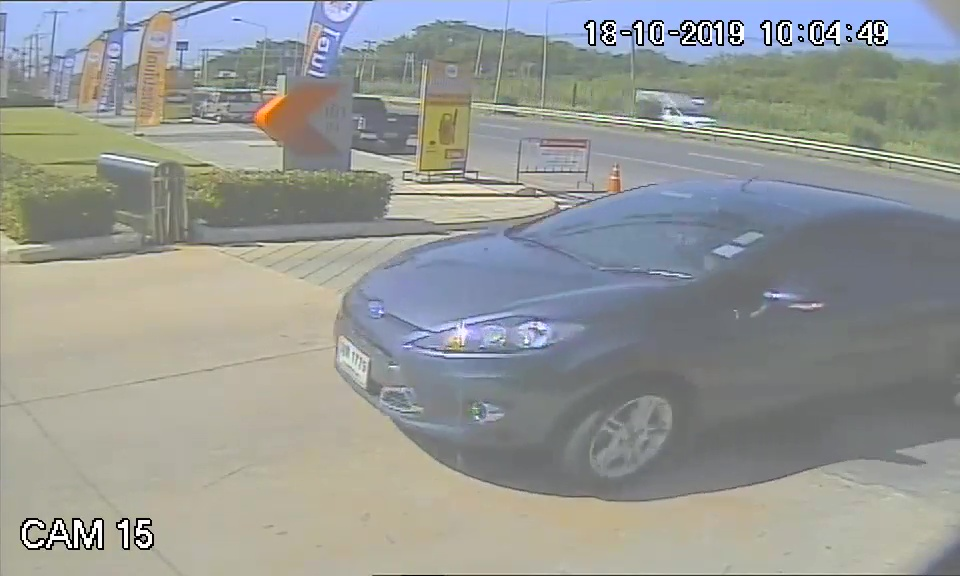sedan: (328, 174, 960, 490)
